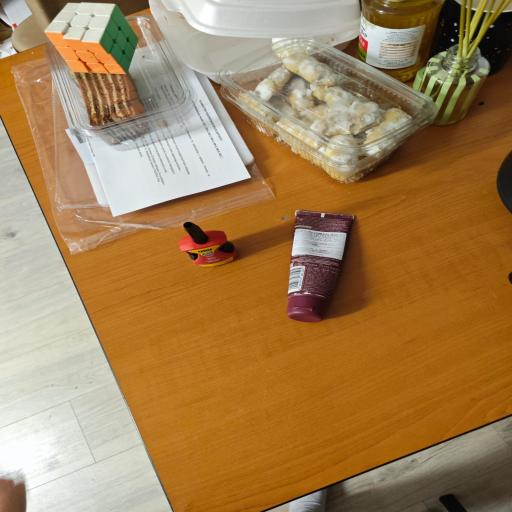Hand Cream: (284, 207, 362, 320)
Rubiks Cube: (43, 0, 150, 77)
Super Glue: (176, 223, 238, 267)
